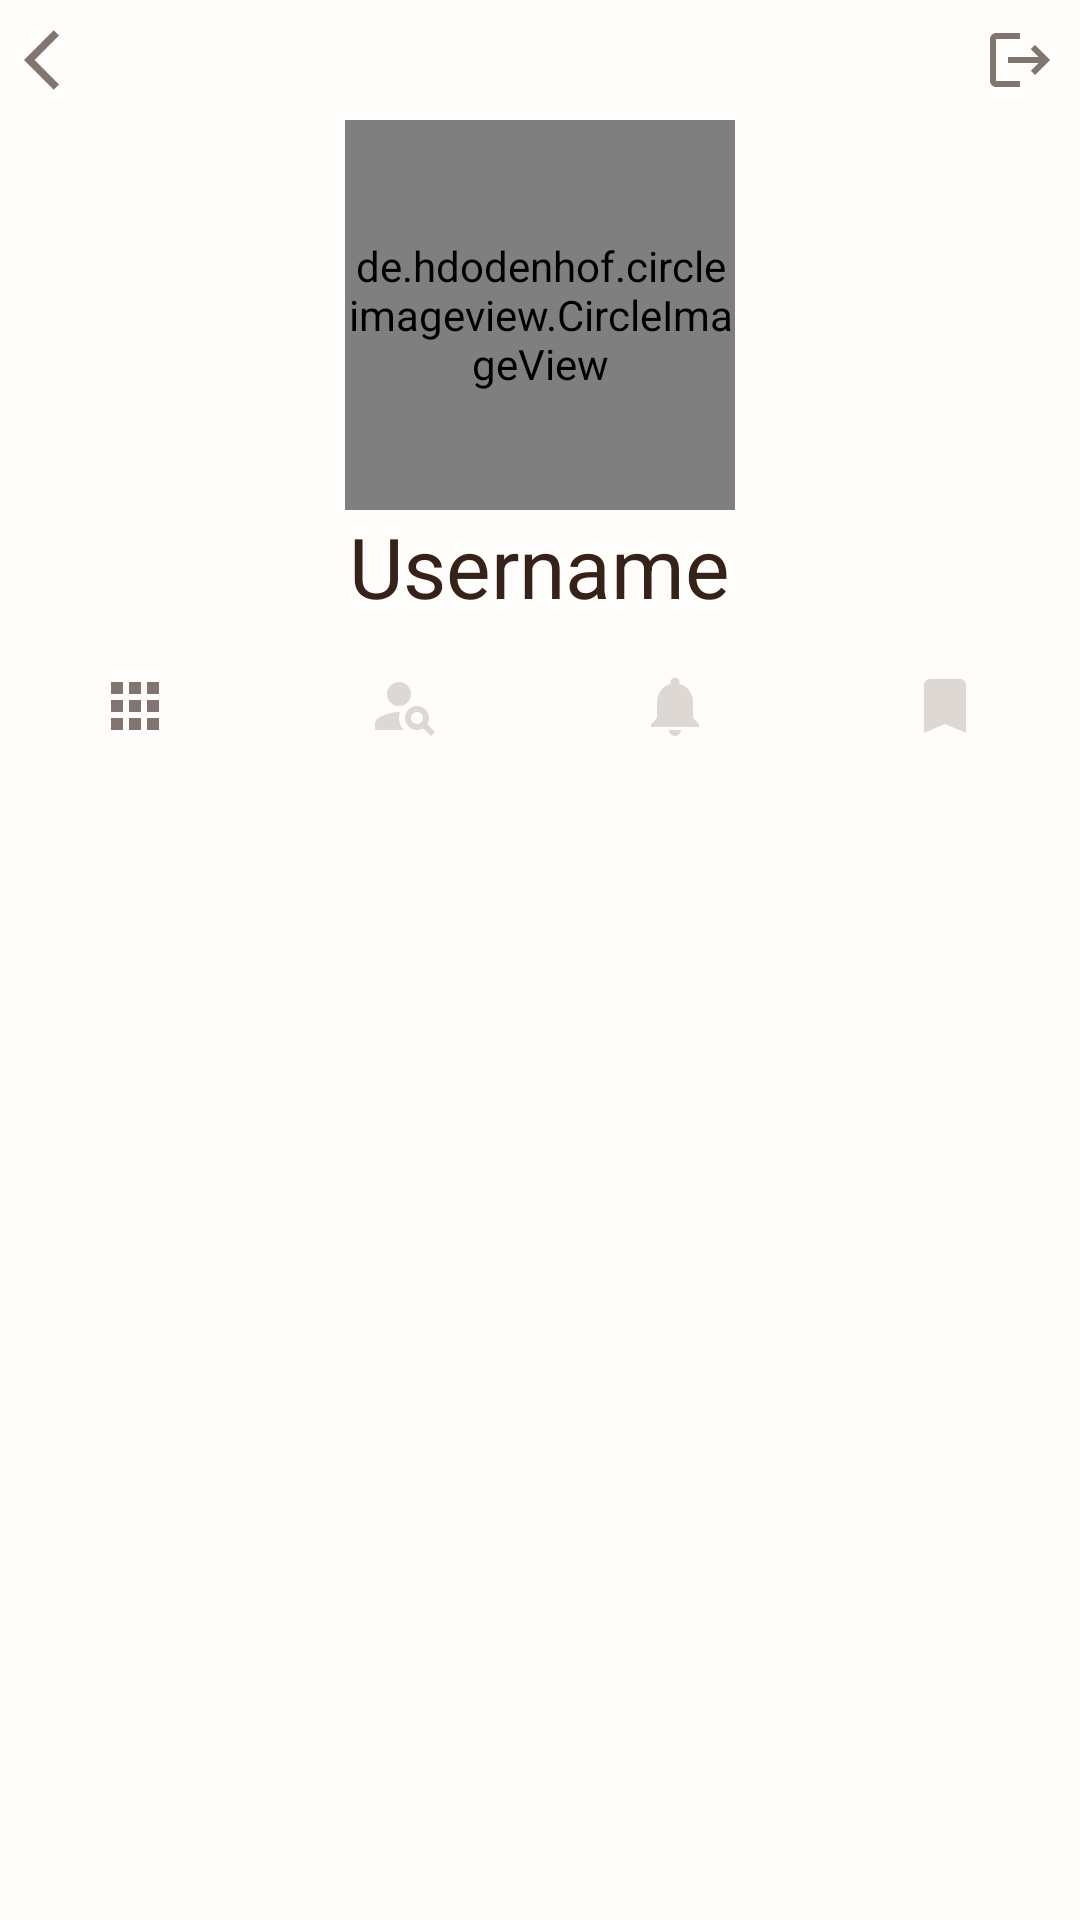

Screen size 1080 x 1920. Icon name, then its center in pixels as (x=x, y=y):
back: (x=41, y=60)
